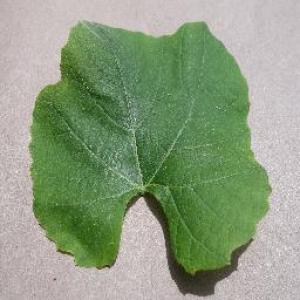Folha: (27, 18, 272, 276)
